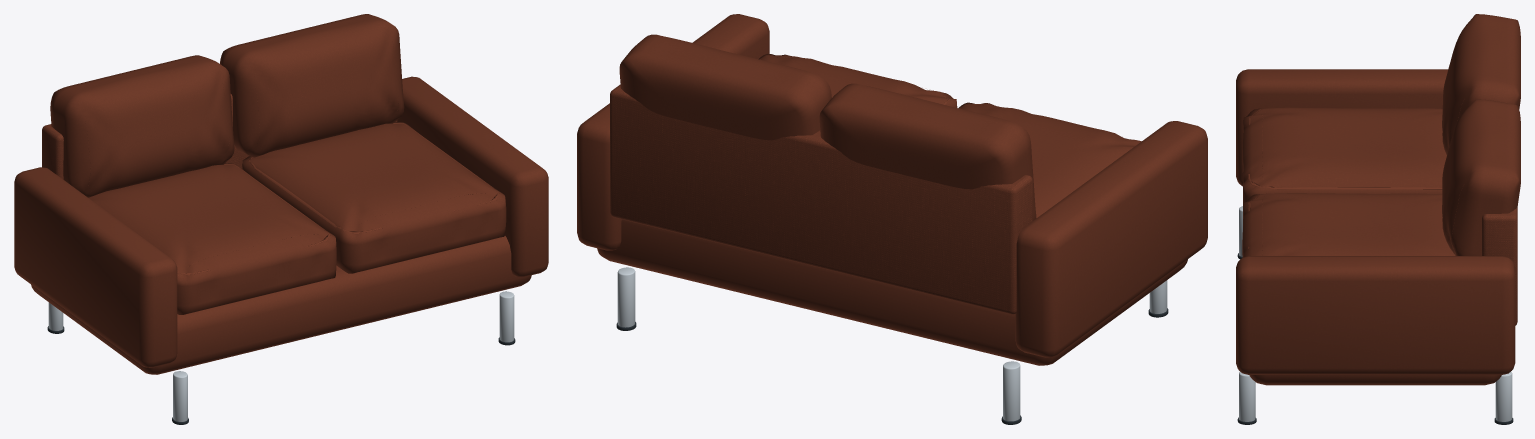
File: loveseat.glb
3 renders of one model, left to right at view 1: azimuth 30°, elevation 25°; view 2: azimuth 150°, elevation 25°; view 3: azimuth 270°, elevation 25°, orthographic. The views are drawn at different scales.
Parts seen in each view (by area): view 1: catalog_surface_UVMap, catalog_surface_RealismUV; view 2: catalog_surface_UVMap, catalog_surface_RealismUV; view 3: catalog_surface_UVMap, catalog_surface_RealismUV.
Part boxes in pixels (left/top/right/bottom): catalog_surface_UVMap: left=14, top=14, right=548, bottom=424; catalog_surface_RealismUV: left=48, top=41, right=514, bottom=421; catalog_surface_UVMap: left=577, top=14, right=1207, bottom=424; catalog_surface_RealismUV: left=617, top=55, right=1167, bottom=421; catalog_surface_UVMap: left=1236, top=14, right=1520, bottom=424; catalog_surface_RealismUV: left=1239, top=99, right=1512, bottom=421.
Bounding box in the file's own units: 1.45 × 0.82 × 0.85.
Materials: 4 (1 with a texture image).
